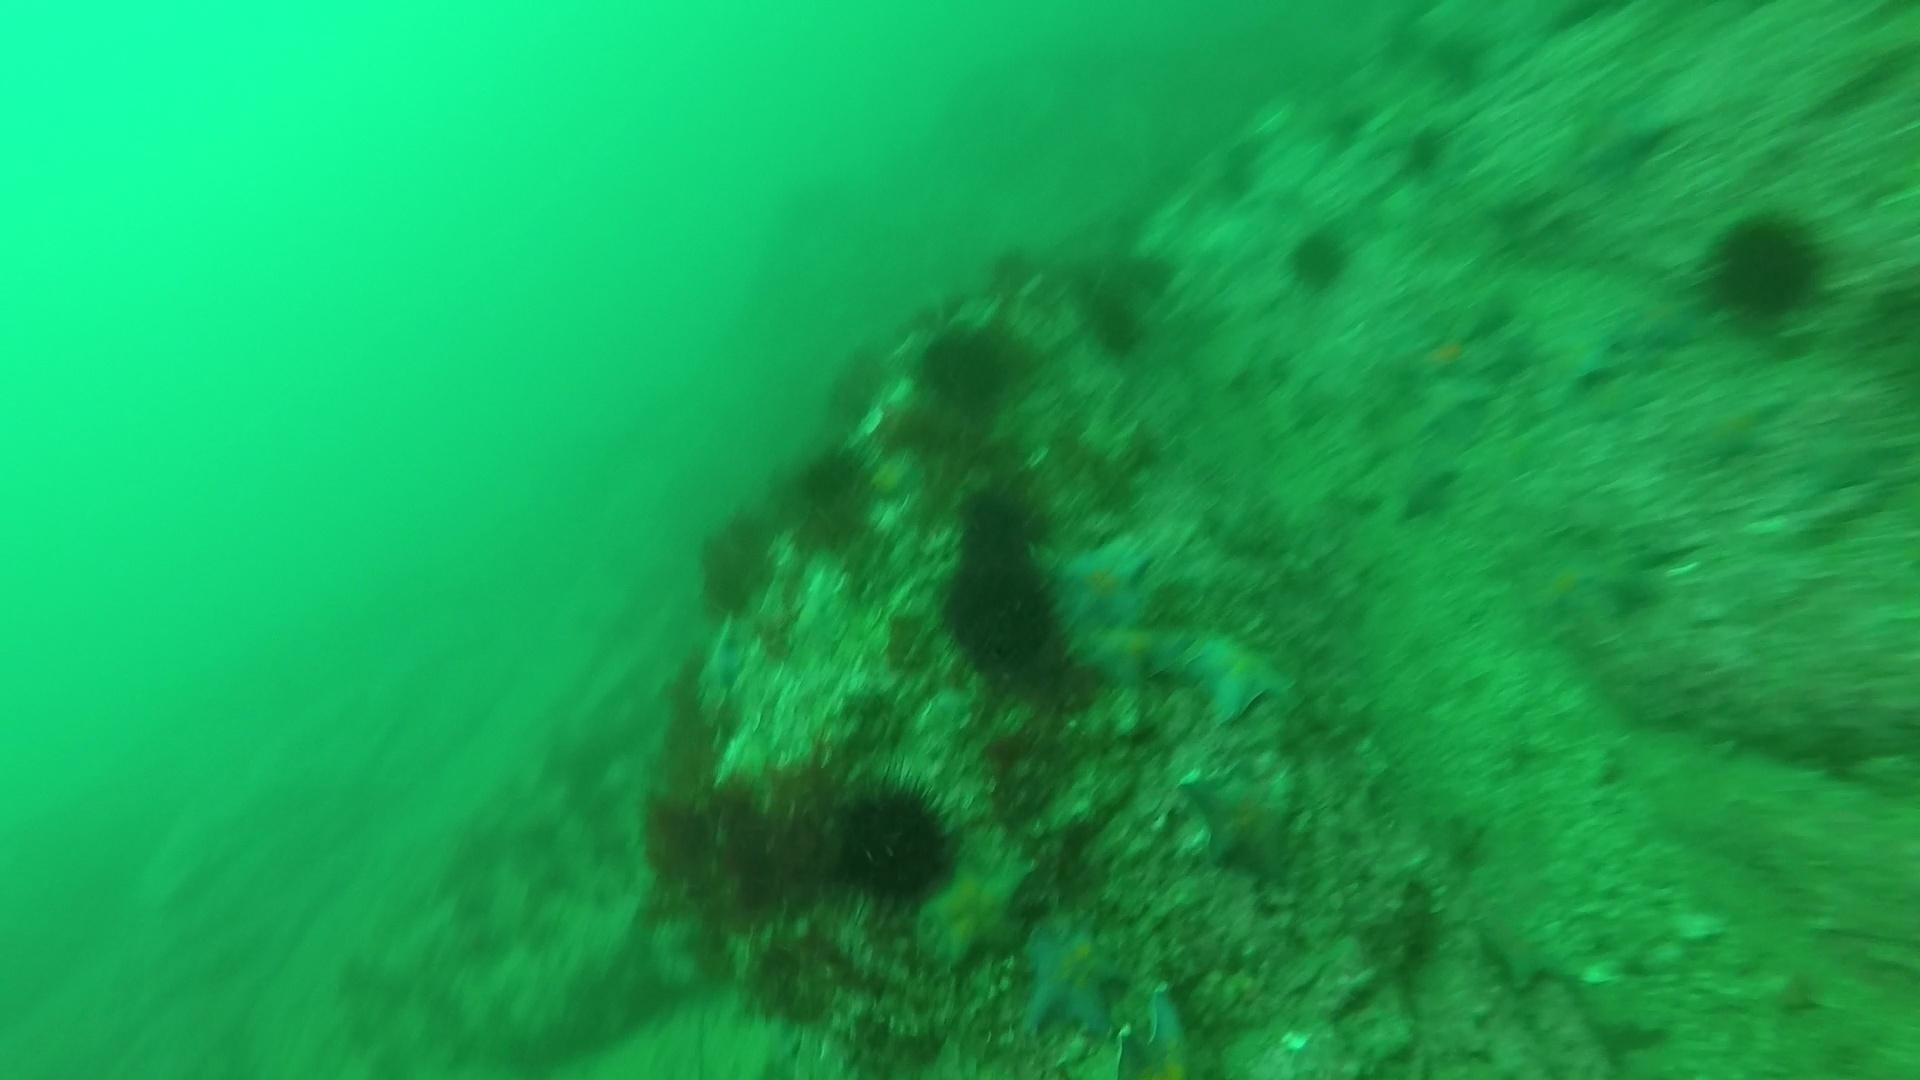echinus: (825, 773, 964, 910), (939, 554, 1064, 680), (1698, 207, 1830, 326), (781, 436, 881, 553), (911, 316, 1022, 417), (691, 506, 781, 622), (949, 481, 1050, 571), (820, 342, 893, 433), (1197, 104, 1267, 196), (1396, 113, 1466, 204), (1433, 26, 1503, 117), (1315, 80, 1385, 171), (1079, 282, 1151, 359), (1282, 222, 1356, 295), (980, 241, 1044, 305), (1120, 243, 1178, 297)
starfish: (1176, 760, 1309, 886), (1009, 909, 1135, 1040), (911, 845, 1040, 973), (1150, 618, 1299, 727), (1110, 980, 1254, 1073), (1048, 529, 1160, 636), (1472, 899, 1594, 996), (1560, 94, 1679, 182), (1515, 539, 1623, 626), (1073, 615, 1185, 698), (1398, 307, 1505, 389), (1680, 386, 1789, 465)
